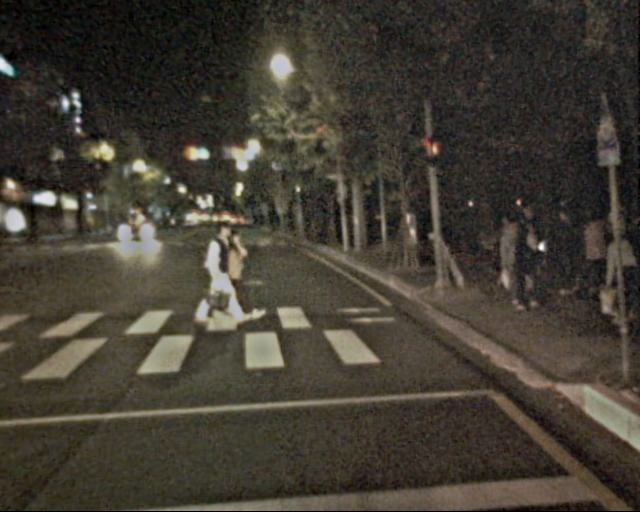person: (189, 219, 233, 326), (508, 210, 551, 315), (596, 231, 637, 330), (210, 225, 248, 317), (549, 209, 584, 294), (583, 214, 617, 298), (495, 218, 526, 294)
